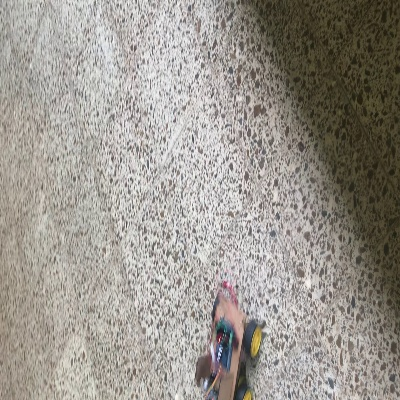Robot: (194, 291, 262, 399)
